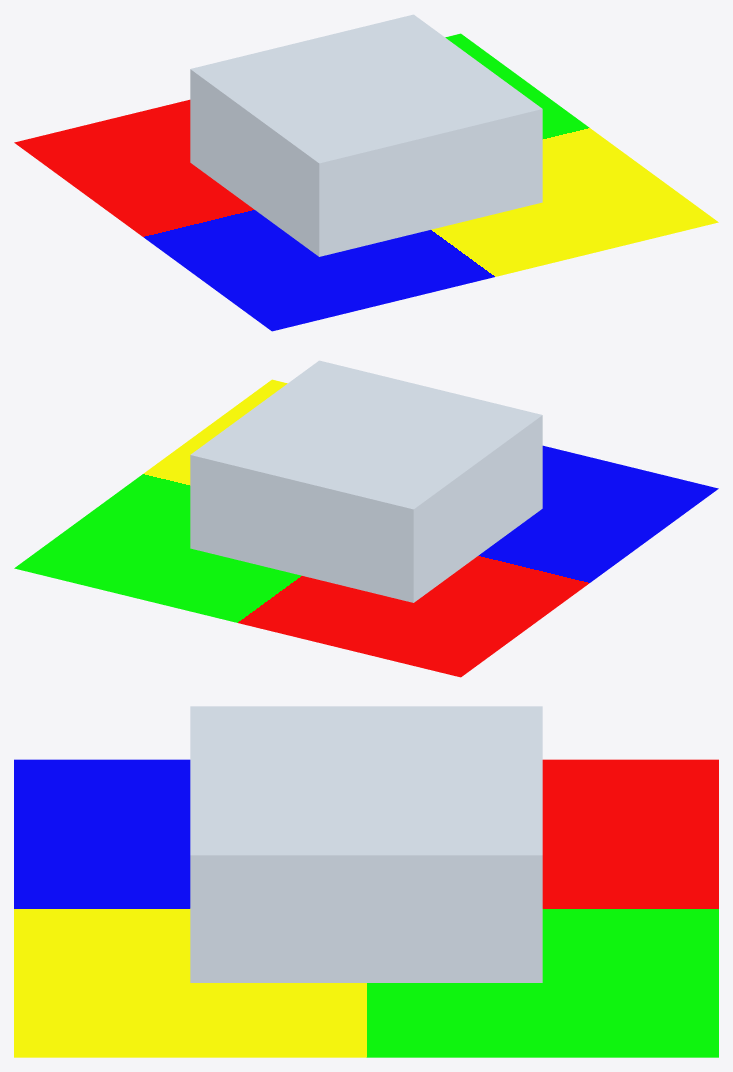
The model's file is block.glb.
3 views of the same model, one above another, from view 1: azimuth 30°, elevation 25°; view 2: azimuth 150°, elevation 25°; view 3: azimuth 270°, elevation 25° (orthographic). The views are drawn at different scales.
Visible parts, largest first — view 1: Reference Block; view 2: Reference Block; view 3: Reference Block.
Boxes of the visible parts, left/top/right/bottom form: Reference Block: left=14, top=14, right=718, bottom=331; Reference Block: left=14, top=360, right=718, bottom=677; Reference Block: left=14, top=706, right=718, bottom=1057.
Size of the model in its own units: 4 by 0.8 by 4.
2 materials, 1 textured.
